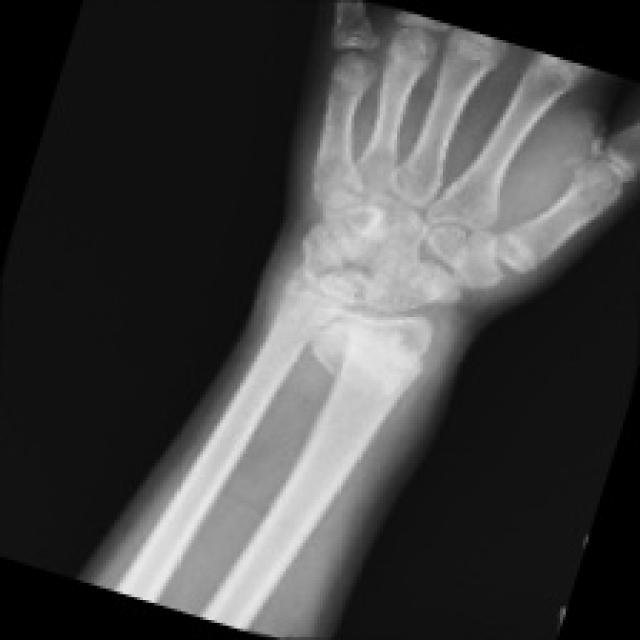fracture: (473, 222, 551, 316), (316, 26, 396, 100)
